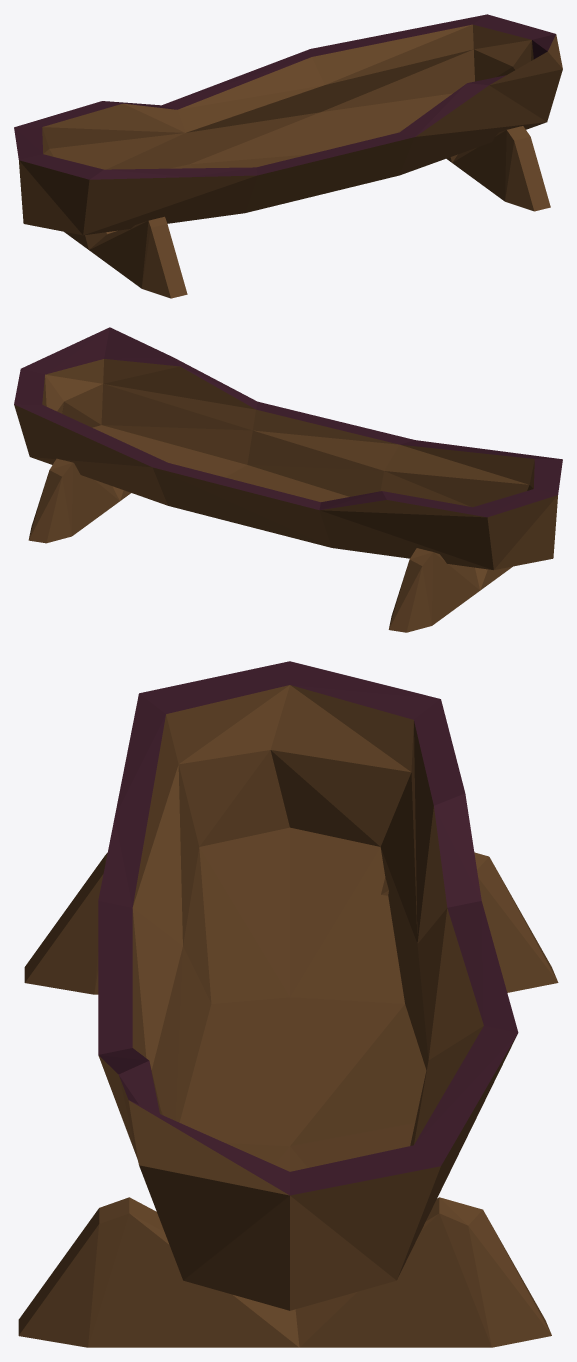
The model's file is Trog.FBX.
3 views of the same model, one above another, from view 1: azimuth 30°, elevation 25°; view 2: azimuth 150°, elevation 25°; view 3: azimuth 270°, elevation 25° (orthographic). The views are drawn at different scales.
Parts seen in each view (by area): view 1: Trog; view 2: Trog; view 3: Trog.
Part boxes in pixels (x1,y1,x2,y2): Trog: (14,14,562,298); Trog: (14,327,562,632); Trog: (18,661,558,1347).
Size of the model in its own units: 4.29 by 0.9903 by 1.87.
Materials: 1 (1 with a texture image).
